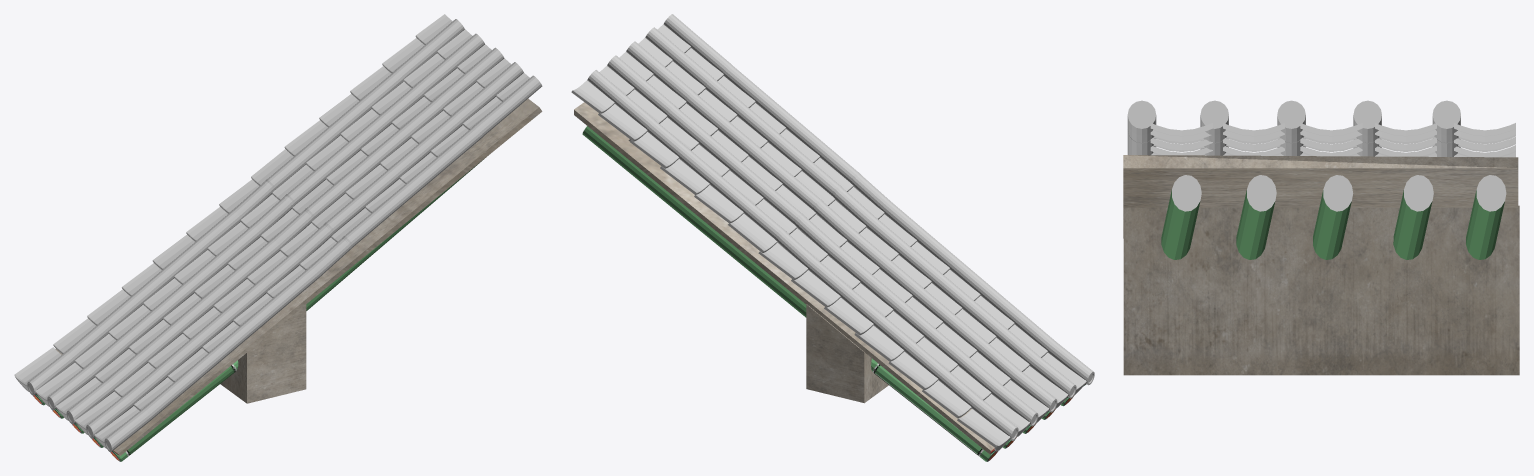
The model's file is SM_Roof_9.fbx.
3 views of the same model, side by side, from view 1: azimuth 30°, elevation 25°; view 2: azimuth 150°, elevation 25°; view 3: azimuth 270°, elevation 25° (orthographic). The views are drawn at different scales.
Parts seen in each view (by area): view 1: SM_Roof_9; view 2: SM_Roof_9; view 3: SM_Roof_9.
Boxes of the visible parts, box(x1,y1,x2,y2) form: SM_Roof_9: box(14, 14, 542, 461); SM_Roof_9: box(571, 14, 1094, 461); SM_Roof_9: box(1123, 100, 1519, 375).
Size of the model in its own units: 527 by 211 by 337.
